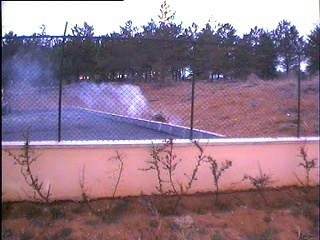smoke: (72, 72, 156, 119)
